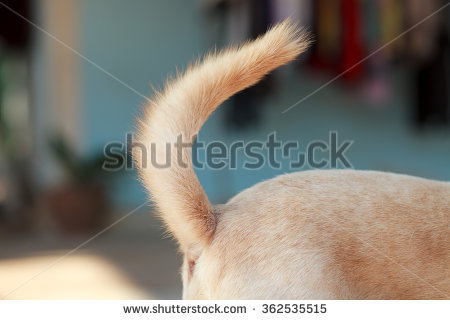tail: (125, 18, 314, 256)
